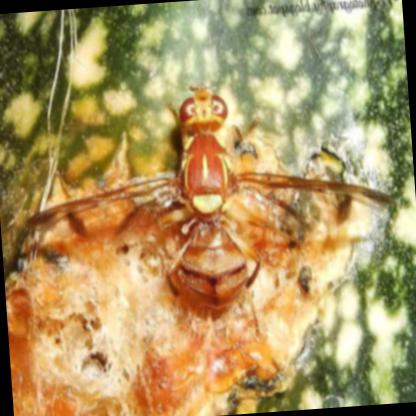fruit fly: (10, 87, 392, 323)
